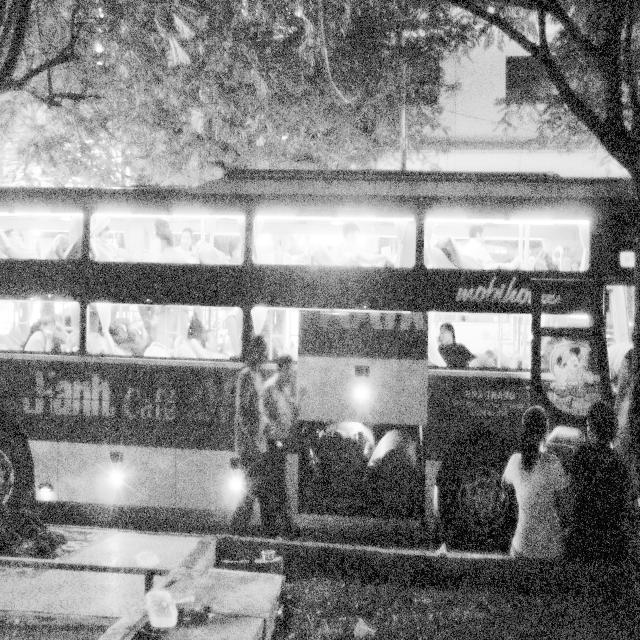Bus: (0, 158, 632, 598)
